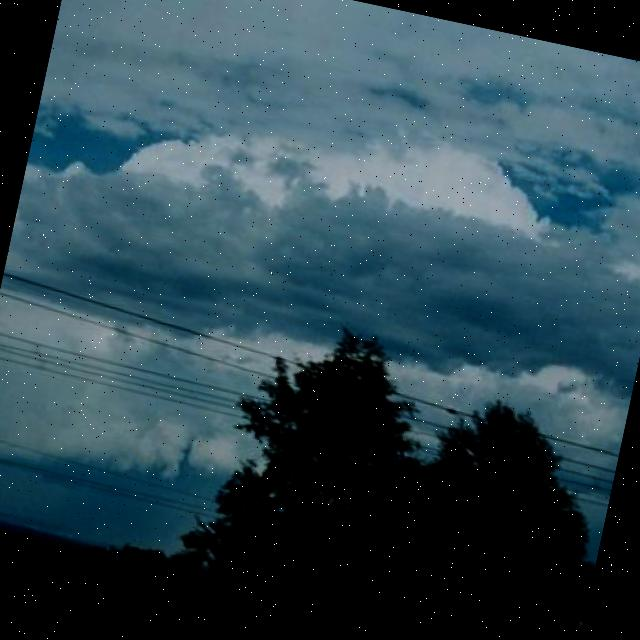Ac: (9, 1, 640, 380)
